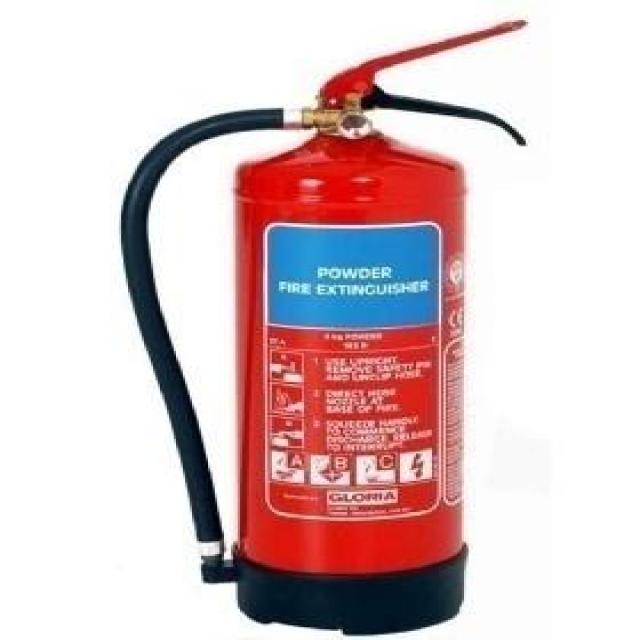fire_extinguisher: (109, 15, 538, 638)
